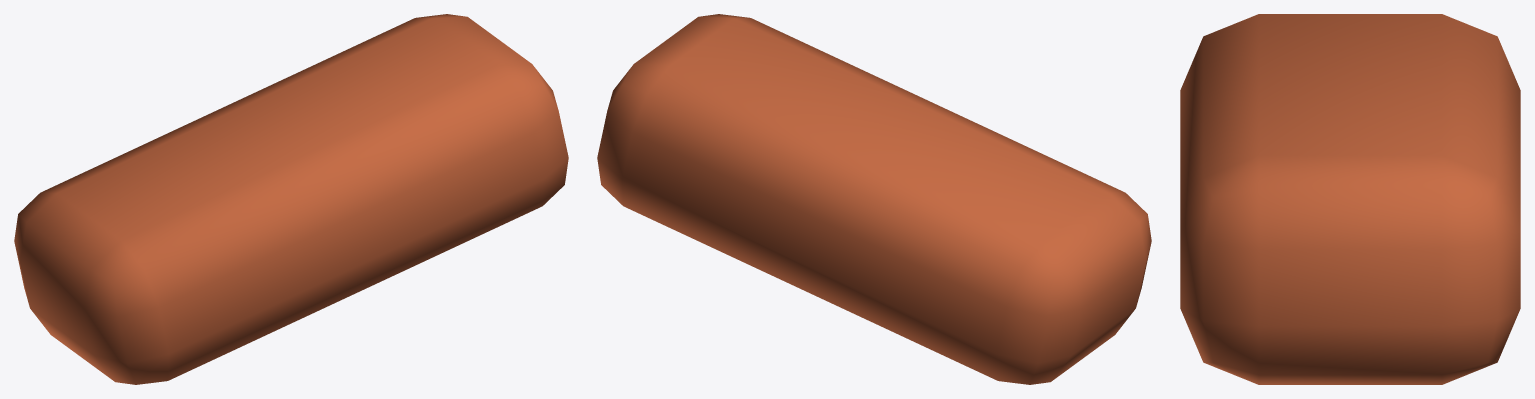
File: mig_welding_gun_trigger.glb
3 views of the same model, side by side, from view 1: azimuth 30°, elevation 25°; view 2: azimuth 150°, elevation 25°; view 3: azimuth 270°, elevation 25° (orthographic). The views are drawn at different scales.
Parts seen in each view (by area): view 1: mig_welding_gun_trigger; view 2: mig_welding_gun_trigger; view 3: mig_welding_gun_trigger.
Boxes of the visible parts, x1,y1,x2,y2 form: mig_welding_gun_trigger: (14, 14, 568, 384); mig_welding_gun_trigger: (597, 14, 1151, 384); mig_welding_gun_trigger: (1180, 14, 1520, 384).
Bounding box in the file's own units: 0.03 × 0.0138 × 0.013.
